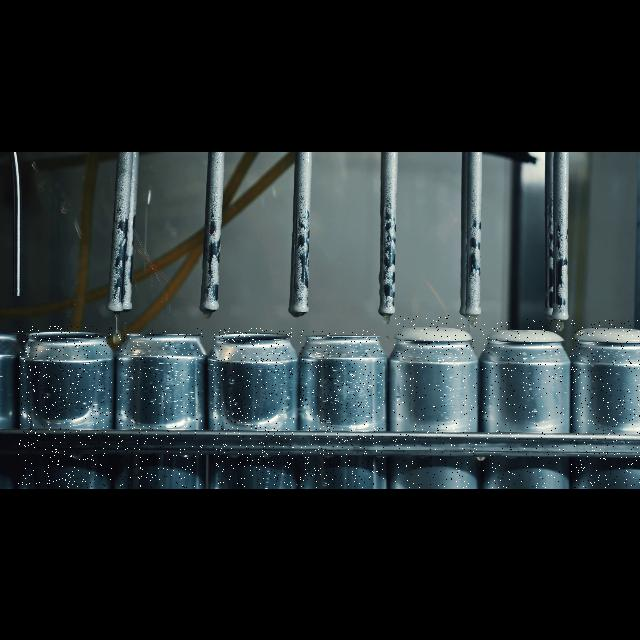empty: (18, 326, 112, 488), (117, 328, 203, 488), (300, 330, 384, 488), (212, 328, 294, 488)
full: (393, 314, 477, 488), (480, 318, 564, 488), (570, 320, 640, 488)
